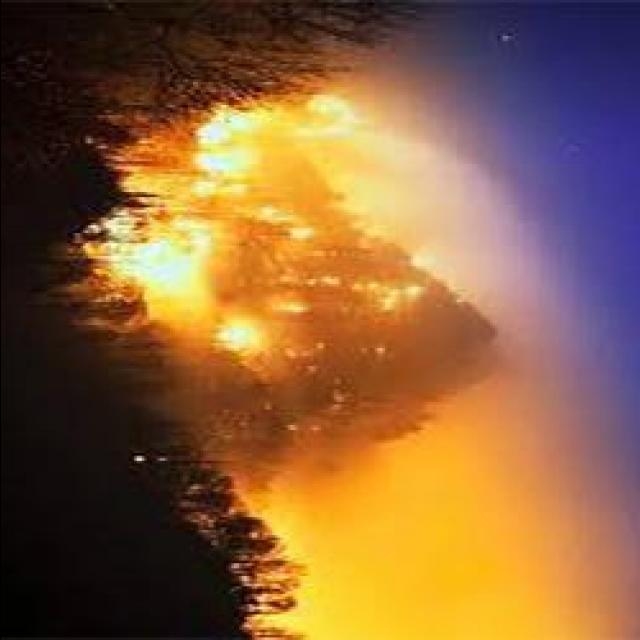fire: (108, 166, 223, 294), (200, 102, 334, 170), (217, 308, 295, 354)
smoke: (197, 115, 453, 239), (330, 528, 563, 640)
